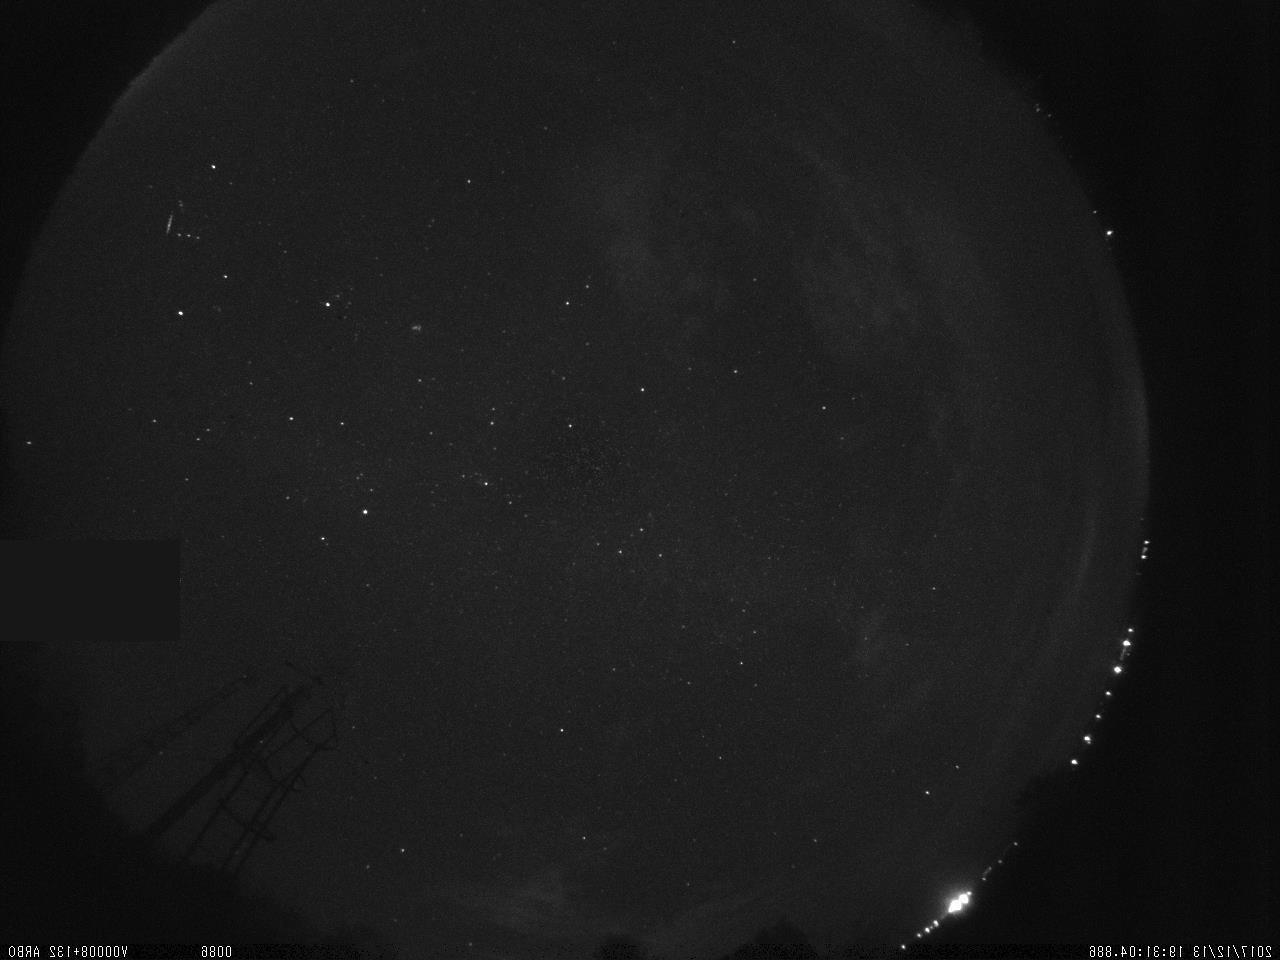meteor: (160, 211, 176, 243)
